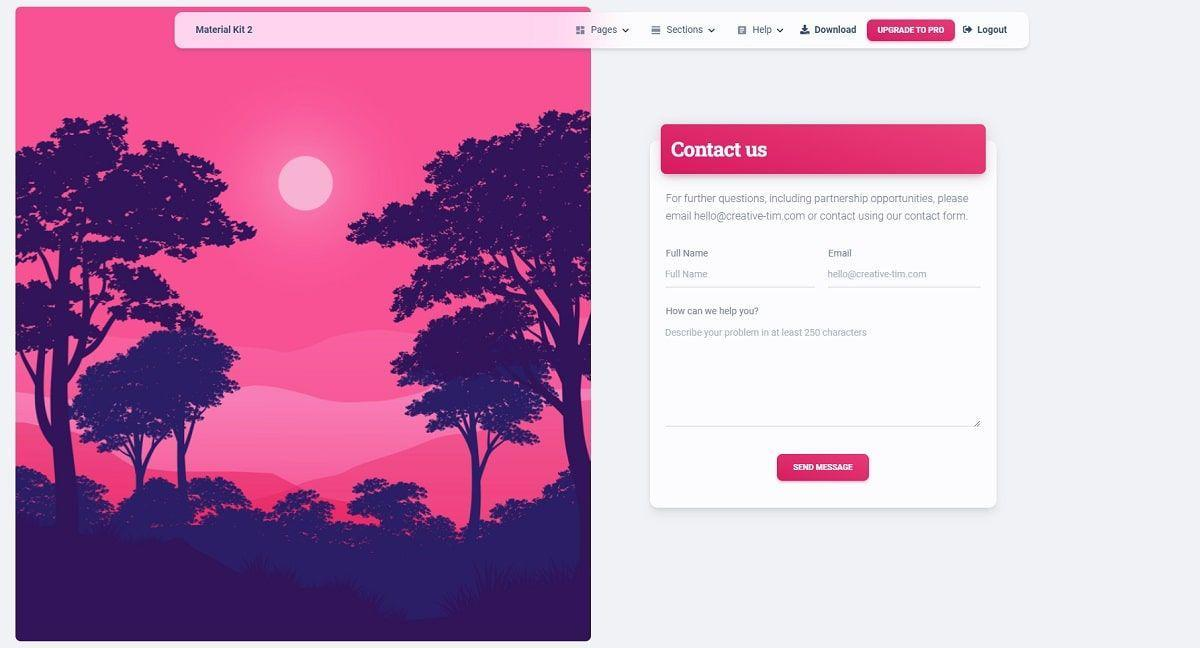button: (777, 455, 870, 482), (866, 20, 956, 42)
icon: (651, 24, 663, 38), (576, 25, 588, 39), (962, 25, 975, 37), (801, 25, 812, 38), (738, 25, 749, 36), (623, 27, 631, 36), (707, 28, 716, 35), (777, 28, 786, 35)
label: (666, 304, 764, 320), (664, 247, 712, 259), (826, 247, 858, 261), (667, 25, 704, 37), (816, 26, 859, 36), (978, 25, 1009, 38), (591, 25, 620, 37), (753, 26, 773, 36)
